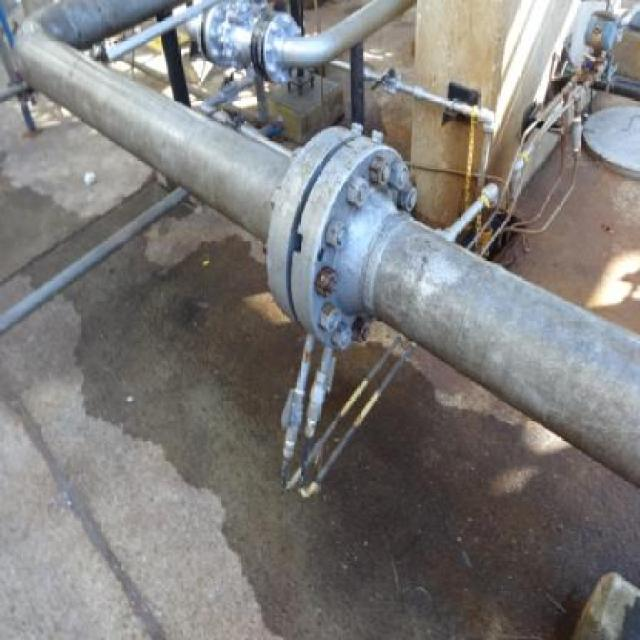gas: (14, 1, 639, 484), (191, 0, 412, 66)
